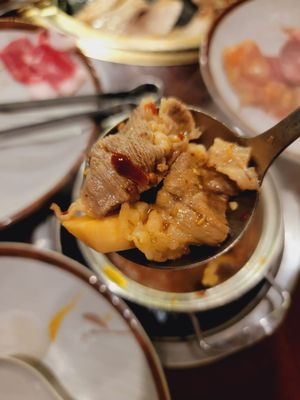sandwich: (0, 83, 163, 134)
sushi: (0, 241, 173, 400), (1, 0, 245, 67)
